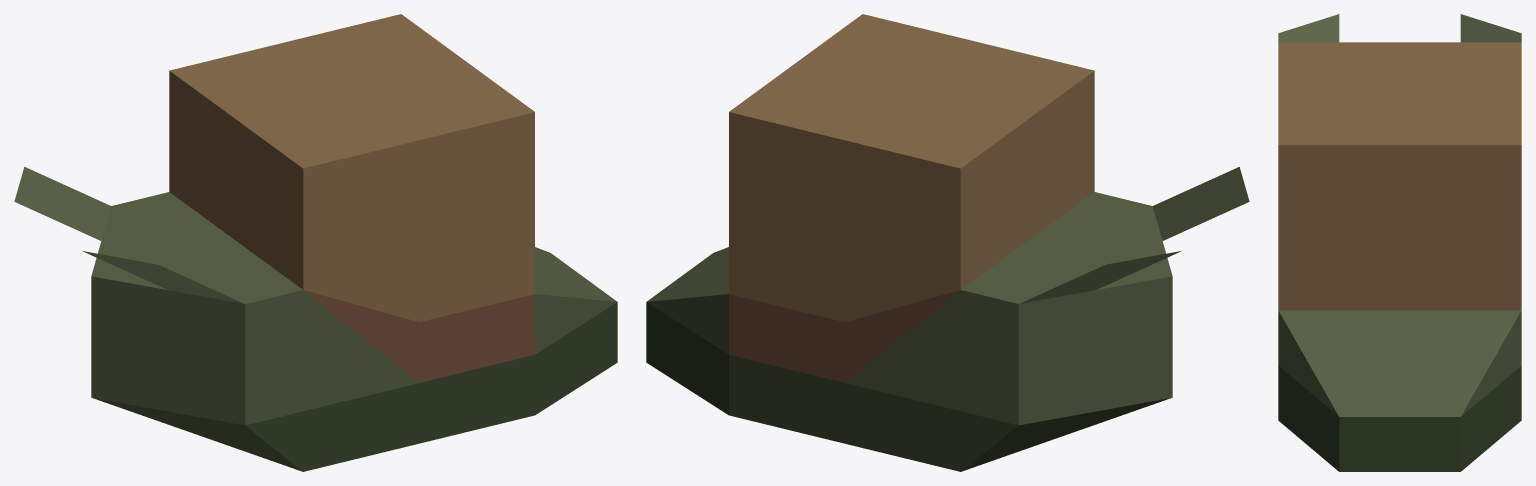
Rendered from snigel.glb.
3 renders of one model, left to right at view 1: azimuth 30°, elevation 25°; view 2: azimuth 150°, elevation 25°; view 3: azimuth 270°, elevation 25°, orthographic. The views are drawn at different scales.
Visible parts, largest first — view 1: snail; view 2: snail; view 3: snail.
Part boxes in pixels (x1=…): snail: x1=14, y1=14, x2=617, y2=471; snail: x1=646, y1=14, x2=1249, y2=471; snail: x1=1278, y1=14, x2=1521, y2=471.
Bounding box in the file's own units: 0.2891 × 0.1562 × 0.125.
Materials: 1 (1 with a texture image).
